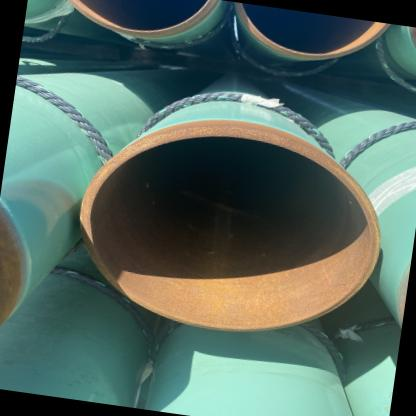clean: (244, 122, 280, 150)
